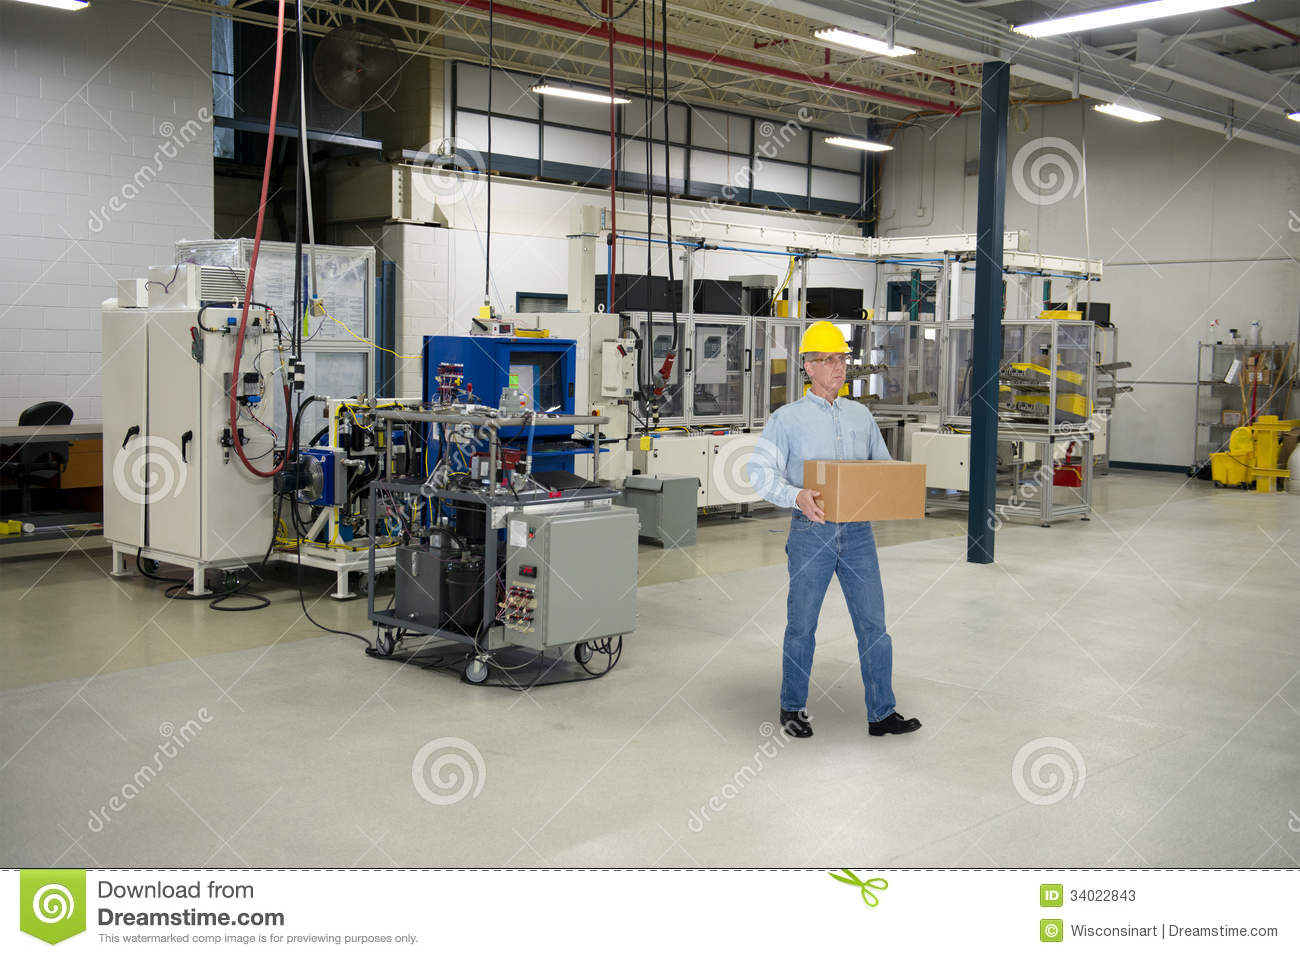person: (759, 321, 928, 736)
